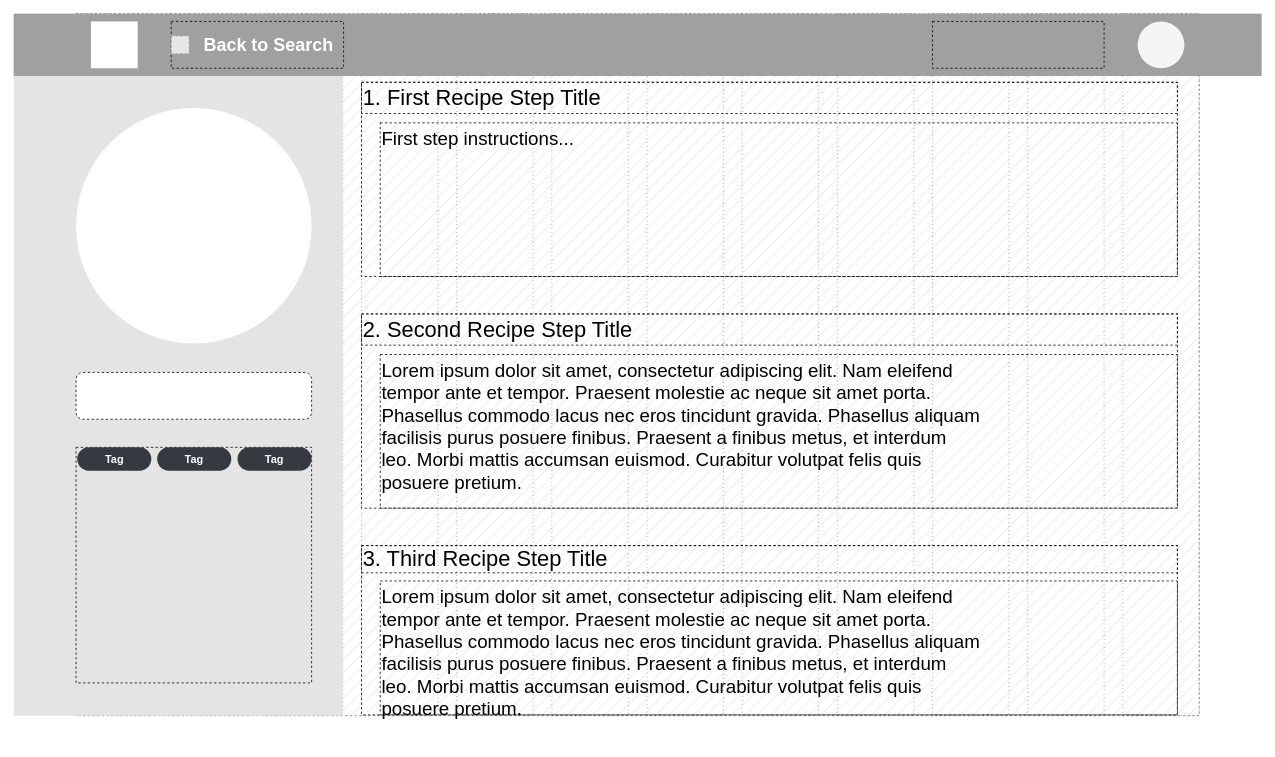
This 1275x757 diagram has some shape labels left out. Grey dashed boxes stand in for pictures. The shapes that lost their labels are listed below. From the top down, each one's centre as x and y in pixels, then its label:
At (x=113, y=44): "Icon".
At (x=1018, y=44): "Welcome, Username".
At (x=1160, y=44): "User Icon".
At (x=193, y=225): "Recipe Image".
At (x=193, y=395): "Cook Time".
